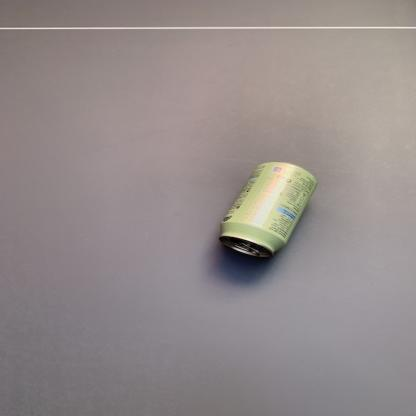trash: (219, 156, 325, 267)
